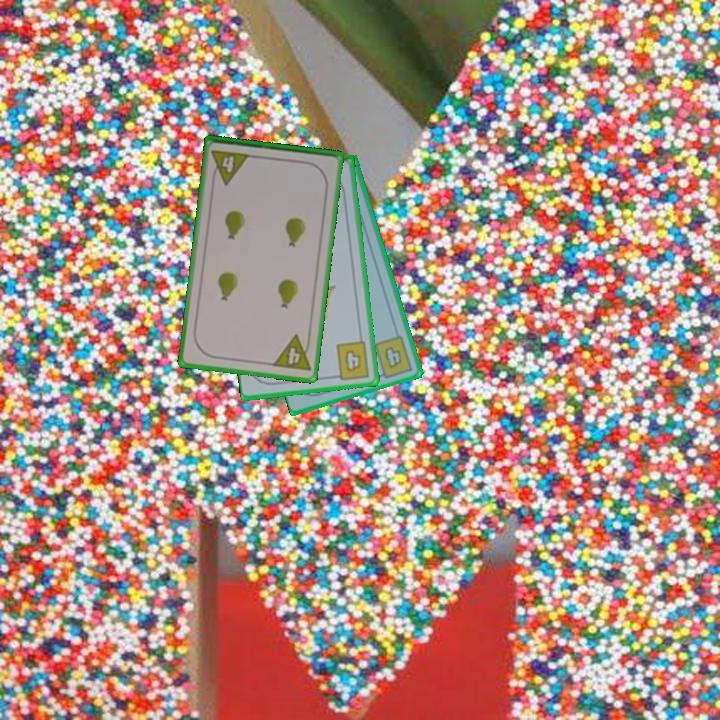4b: (371, 332, 415, 381), (330, 338, 372, 382)
4p: (269, 331, 314, 374), (208, 146, 253, 187)
